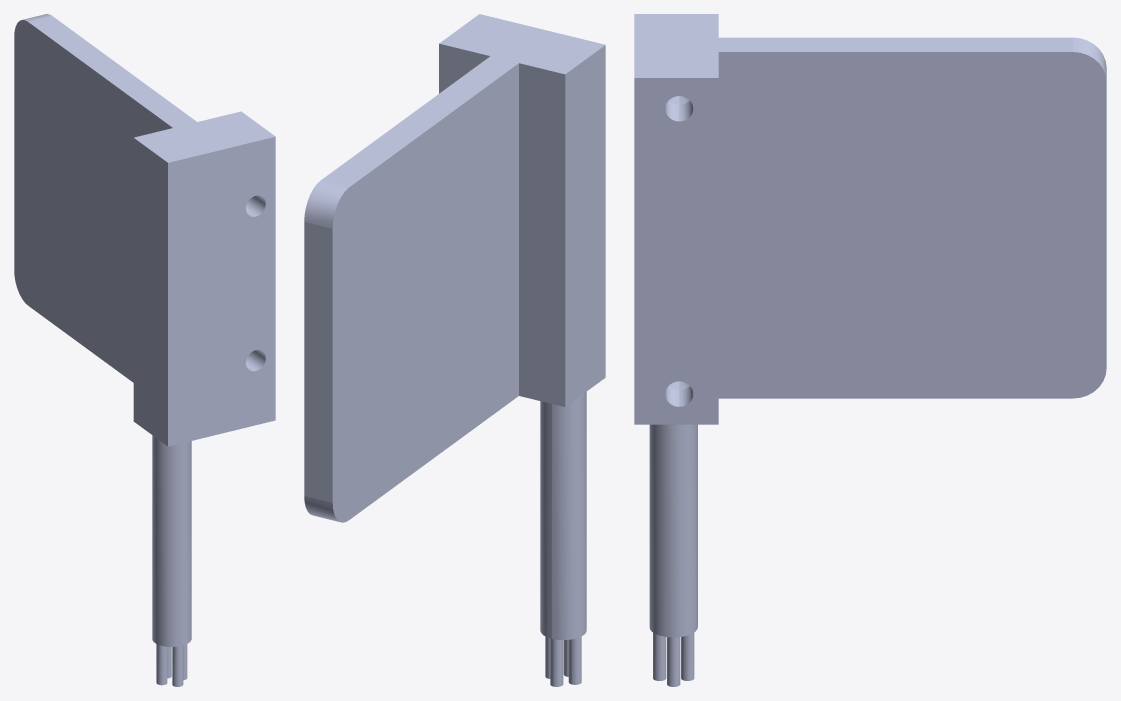
Rendered from MUI-3.glb.
3 renders of one model, left to right at view 1: azimuth 30°, elevation 25°; view 2: azimuth 150°, elevation 25°; view 3: azimuth 270°, elevation 25°, orthographic. The views are drawn at different scales.
Visible parts, largest first — view 1: MUI-3_默认è__node; view 2: MUI-3_默认è__node; view 3: MUI-3_默认è__node.
Part boxes in pixels (bbox=[...]): MUI-3_默认è__node: bbox=[14, 14, 275, 686]; MUI-3_默认è__node: bbox=[304, 14, 605, 686]; MUI-3_默认è__node: bbox=[634, 14, 1106, 686].
Size of the model in its own units: 13.5 by 64 by 42.
